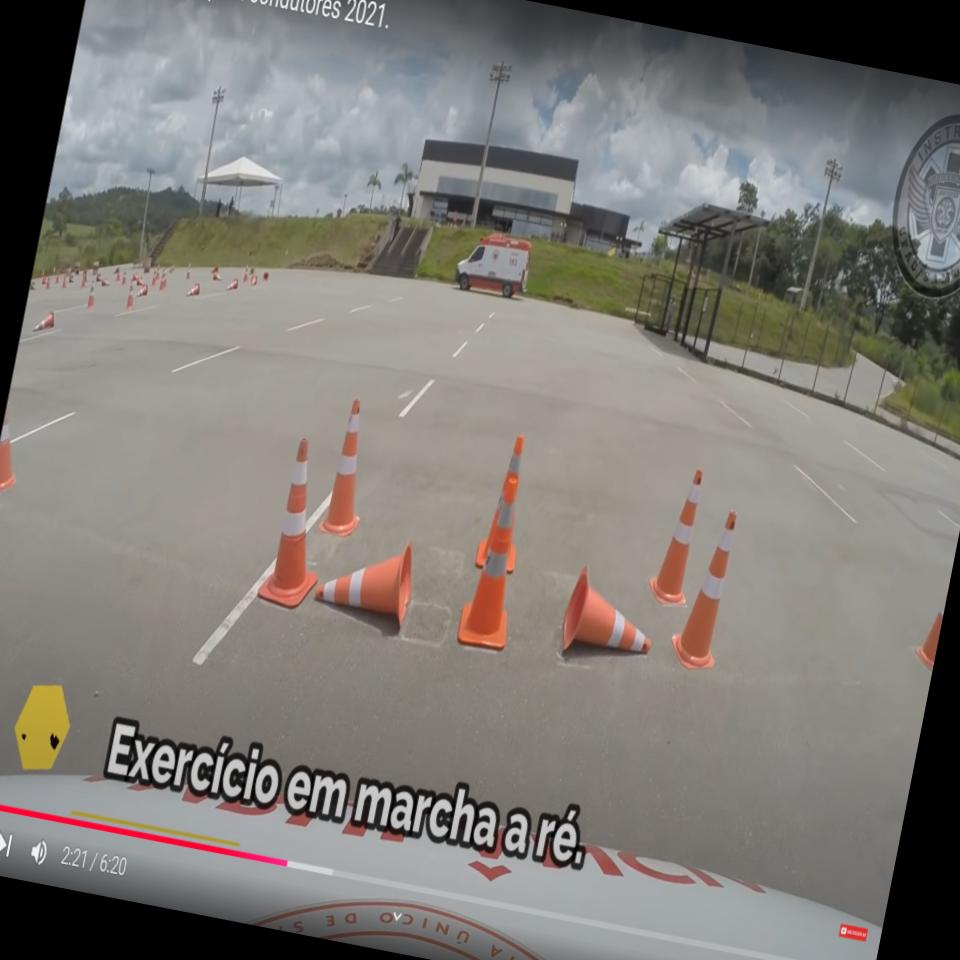bombeiro: (451, 222, 536, 302)
